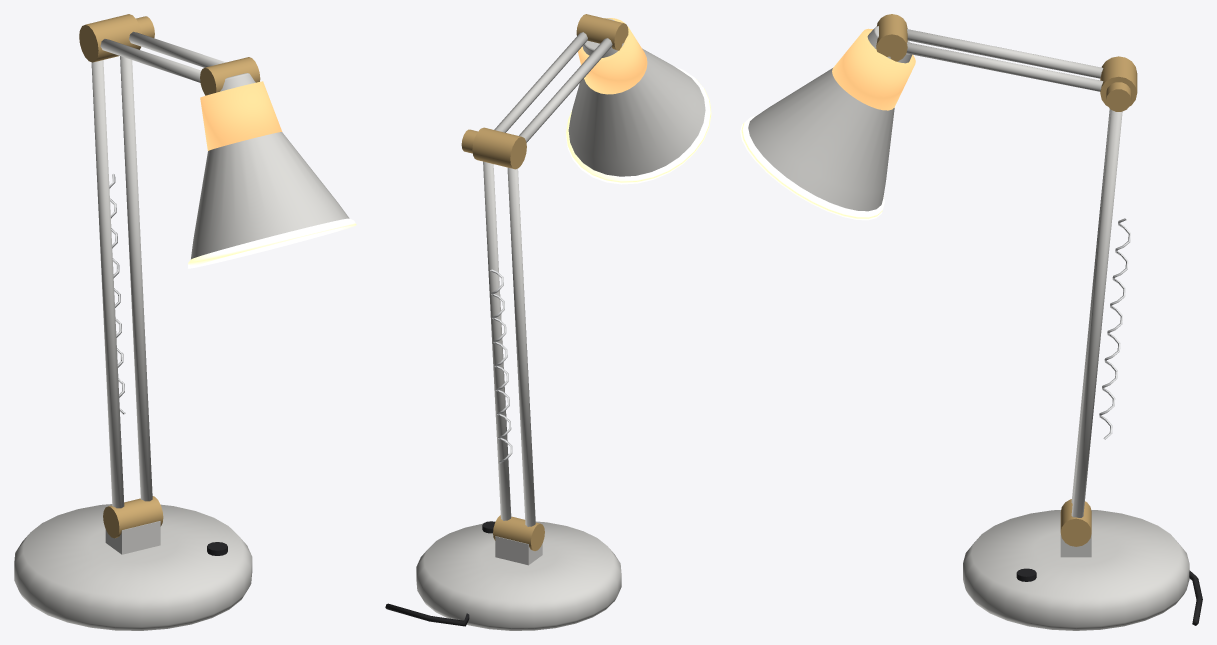
The model's file is desk_lamp.glb.
The picture shows the model from 3 angles, left to right: view 1: azimuth 30°, elevation 25°; view 2: azimuth 150°, elevation 25°; view 3: azimuth 270°, elevation 25°; orthographic projection. The views are drawn at different scales.
Visible parts, largest first — view 1: desk_lamp_base, desk_lamp_arms, desk_lamp_shade, desk_lamp_joints, desk_lamp_vent, desk_lamp_head_glow, desk_lamp_spring; view 2: desk_lamp_base, desk_lamp_shade, desk_lamp_arms, desk_lamp_joints, desk_lamp_vent, desk_lamp_head_glow, desk_lamp_spring, desk_lamp_cord; view 3: desk_lamp_base, desk_lamp_shade, desk_lamp_arms, desk_lamp_joints, desk_lamp_vent, desk_lamp_head_glow, desk_lamp_spring.
Part boxes in pixels (bbox=[...]): desk_lamp_base: bbox=[14, 504, 252, 630]; desk_lamp_arms: bbox=[91, 31, 225, 554]; desk_lamp_shade: bbox=[191, 73, 349, 259]; desk_lamp_joints: bbox=[79, 14, 260, 538]; desk_lamp_vent: bbox=[200, 81, 282, 150]; desk_lamp_head_glow: bbox=[188, 218, 356, 268]; desk_lamp_spring: bbox=[109, 173, 125, 414]; desk_lamp_base: bbox=[416, 521, 621, 630]; desk_lamp_shade: bbox=[568, 18, 705, 176]; desk_lamp_arms: bbox=[483, 32, 612, 565]; desk_lamp_joints: bbox=[461, 14, 628, 550]; desk_lamp_vent: bbox=[578, 18, 647, 94]; desk_lamp_head_glow: bbox=[566, 67, 711, 184]; desk_lamp_spring: bbox=[490, 269, 512, 463]; desk_lamp_cord: bbox=[385, 603, 469, 626]; desk_lamp_base: bbox=[963, 510, 1189, 630]; desk_lamp_shade: bbox=[748, 26, 911, 211]; desk_lamp_arms: bbox=[906, 29, 1122, 557]; desk_lamp_joints: bbox=[876, 14, 1137, 546]; desk_lamp_vent: bbox=[832, 28, 915, 110]; desk_lamp_head_glow: bbox=[740, 115, 884, 220]; desk_lamp_spring: bbox=[1099, 218, 1130, 439].
Bounding box in the file's own units: 0.16 × 0.436 × 0.3265.
